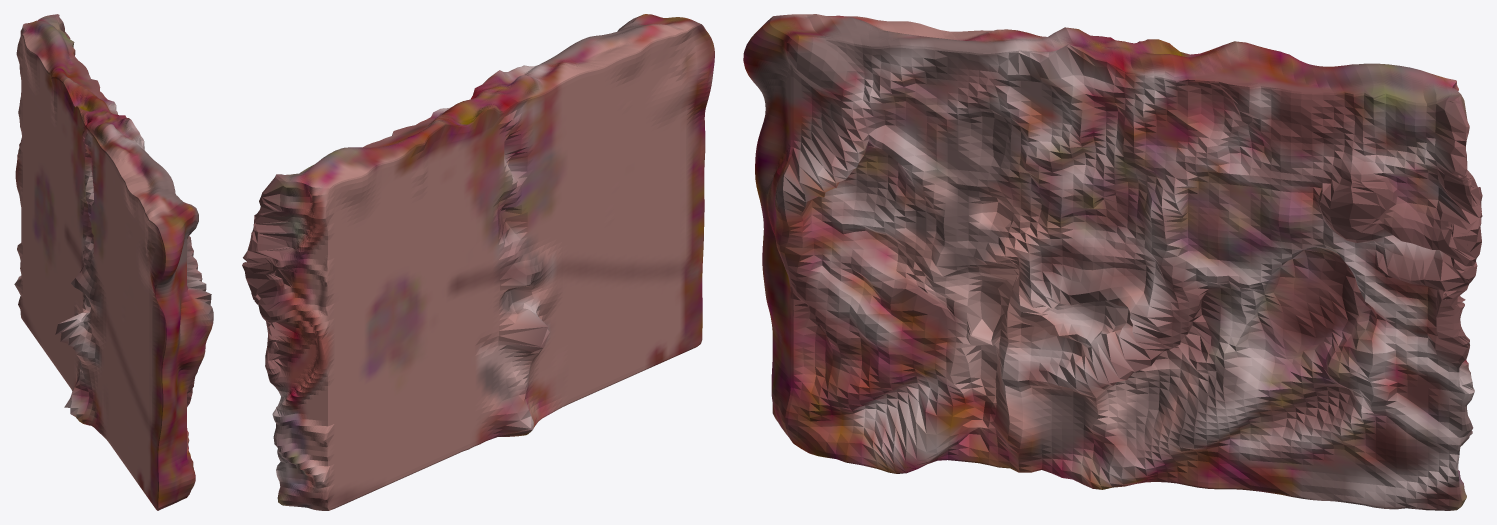
Rendered from flesh_wall_colored.glb.
3 views of the same model, side by side, from view 1: azimuth 30°, elevation 25°; view 2: azimuth 150°, elevation 25°; view 3: azimuth 270°, elevation 25° (orthographic). The views are drawn at different scales.
Visible parts, largest first — view 1: world; view 2: world; view 3: world.
Part boxes in pixels (box(x1,y1,x2,y2)): world: box(14, 14, 213, 510); world: box(242, 14, 714, 510); world: box(743, 14, 1482, 510).
Size of the model in its own units: 1.81 by 3.19 by 4.86.
